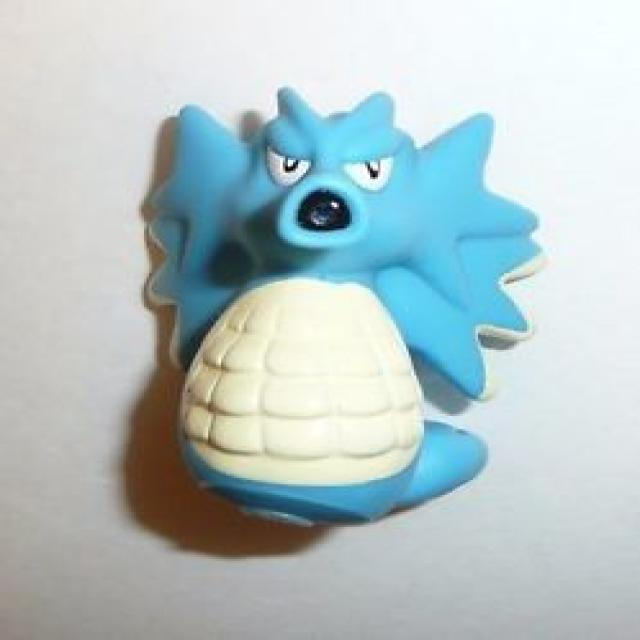Seadra: (141, 89, 539, 522)
